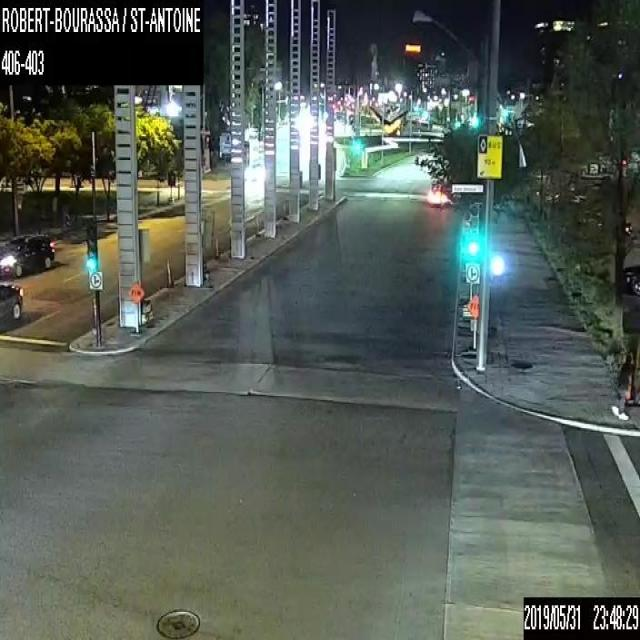construction: (137, 227, 153, 324), (200, 204, 215, 284), (128, 280, 145, 338), (466, 293, 479, 356)
pedestrian: (612, 352, 630, 420)
vehicle: (0, 232, 55, 276), (0, 280, 23, 329), (623, 263, 639, 296), (426, 183, 450, 204), (248, 162, 263, 179)
